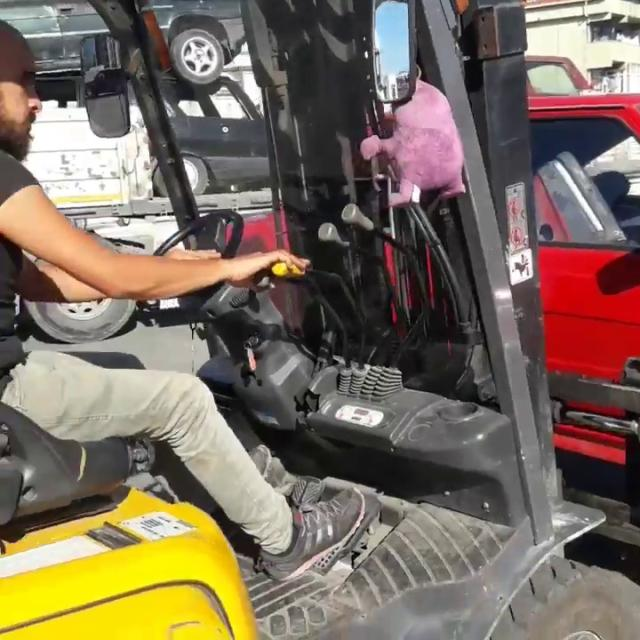ForkLift: (0, 0, 567, 640)
Human: (0, 4, 400, 582)
